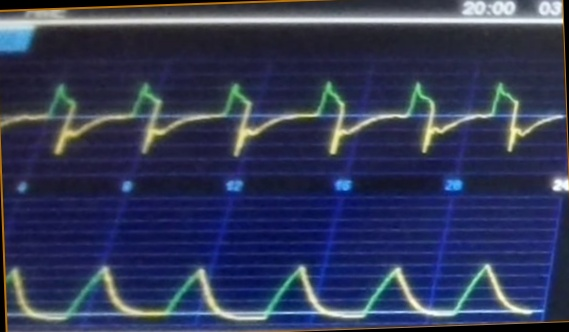Premature_cycling Flow: (2, 71, 563, 161)
Premature_cycling Volume: (7, 244, 541, 324)
